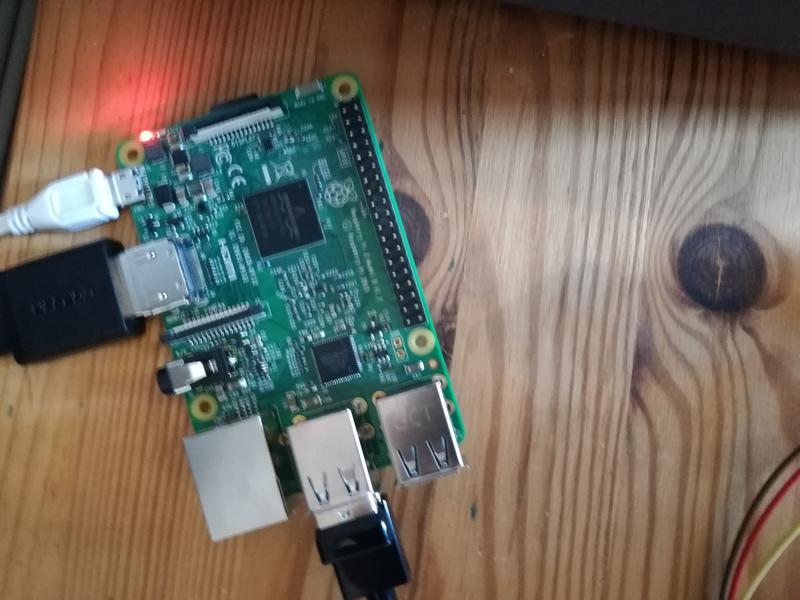Raspberry_Pi_3: (110, 66, 473, 543)
